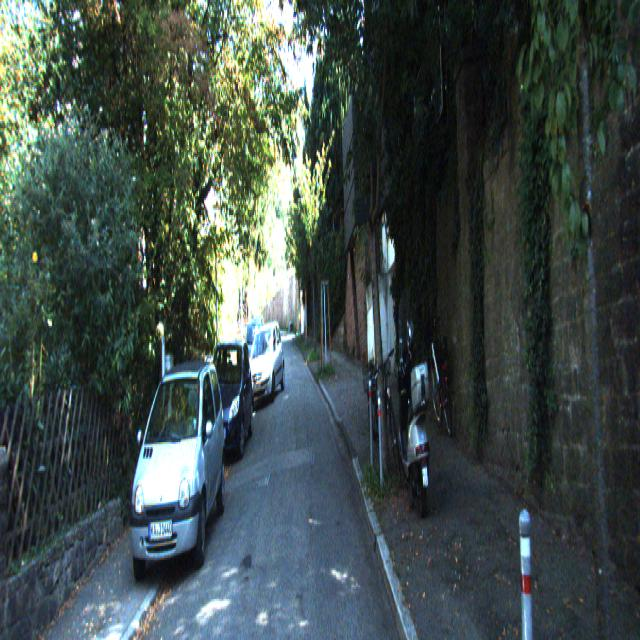Car: (127, 347, 228, 588), (396, 321, 434, 527), (201, 334, 255, 468), (245, 318, 285, 407)
